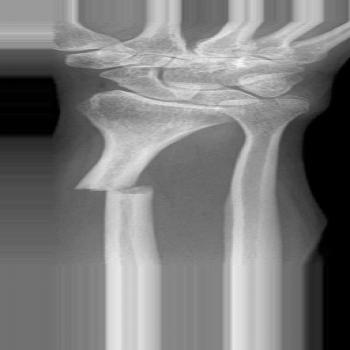Fracture: (61, 178, 167, 198)
